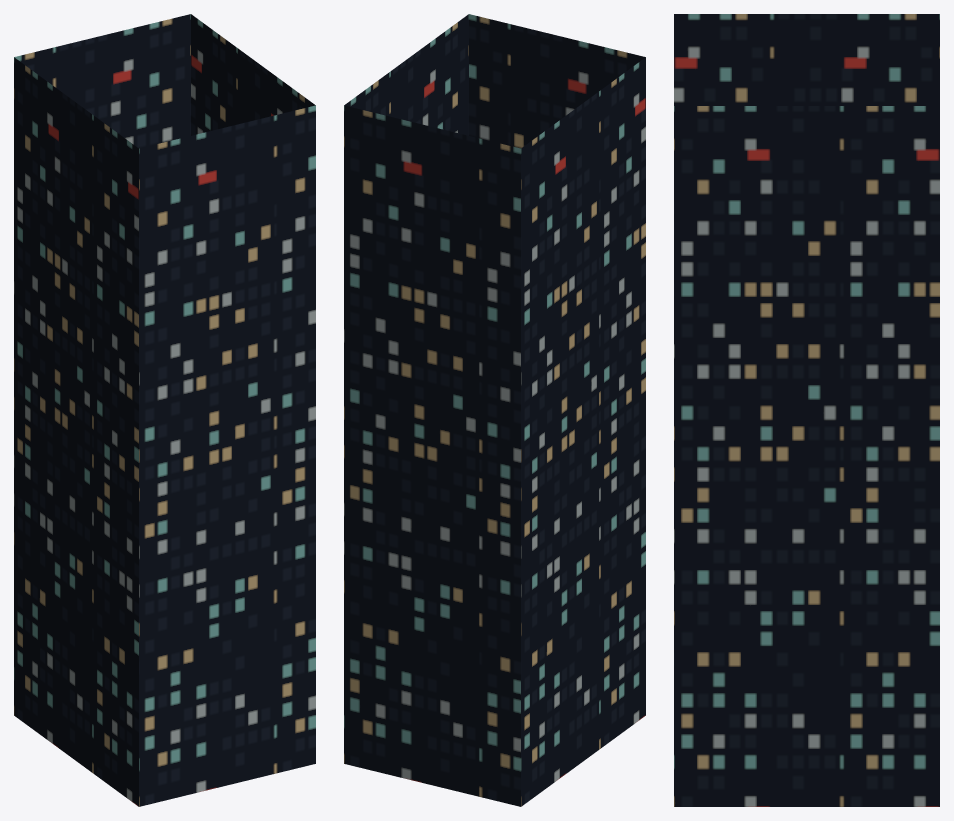
File: wangan_tower_0.glb
3 renders of one model, left to right at view 1: azimuth 30°, elevation 25°; view 2: azimuth 150°, elevation 25°; view 3: azimuth 270°, elevation 25°, orthographic. The views are drawn at different scales.
Parts seen in each view (by area): view 1: wangan_tower_0; view 2: wangan_tower_0; view 3: wangan_tower_0.
Boxes of the visible parts, left/top/right/bottom form: wangan_tower_0: left=14, top=14, right=315, bottom=806; wangan_tower_0: left=344, top=14, right=645, bottom=806; wangan_tower_0: left=674, top=14, right=939, bottom=806.
Bounding box in the file's own units: 18 × 64 × 22.
Materials: 1 (1 with a texture image).
